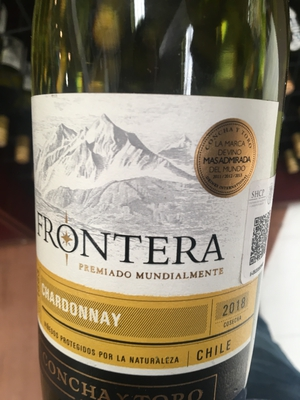frontera chardonnay: (29, 6, 281, 400)
